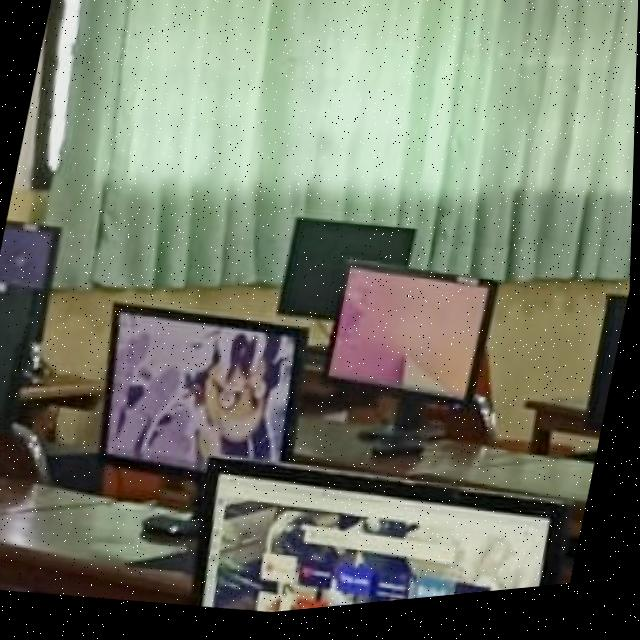offscreen: (280, 225, 416, 325)
onscreen: (199, 467, 568, 618), (103, 305, 309, 475), (331, 274, 497, 409)
